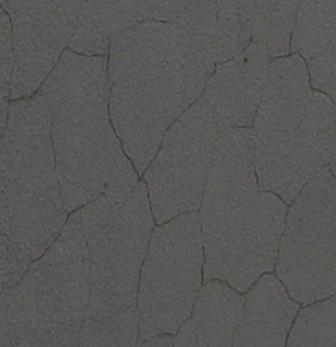retracao: (8, 0, 336, 346)
